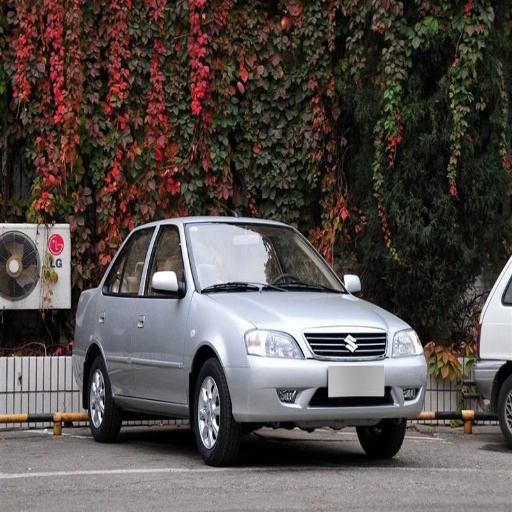front_bumper: (227, 324, 426, 423)
front_right_door: (134, 223, 185, 402)
front_right_light: (245, 327, 305, 359)
hood: (208, 293, 393, 332)
